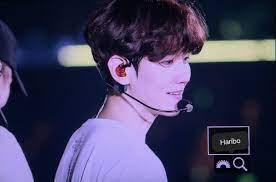earphone: (114, 63, 128, 78)
